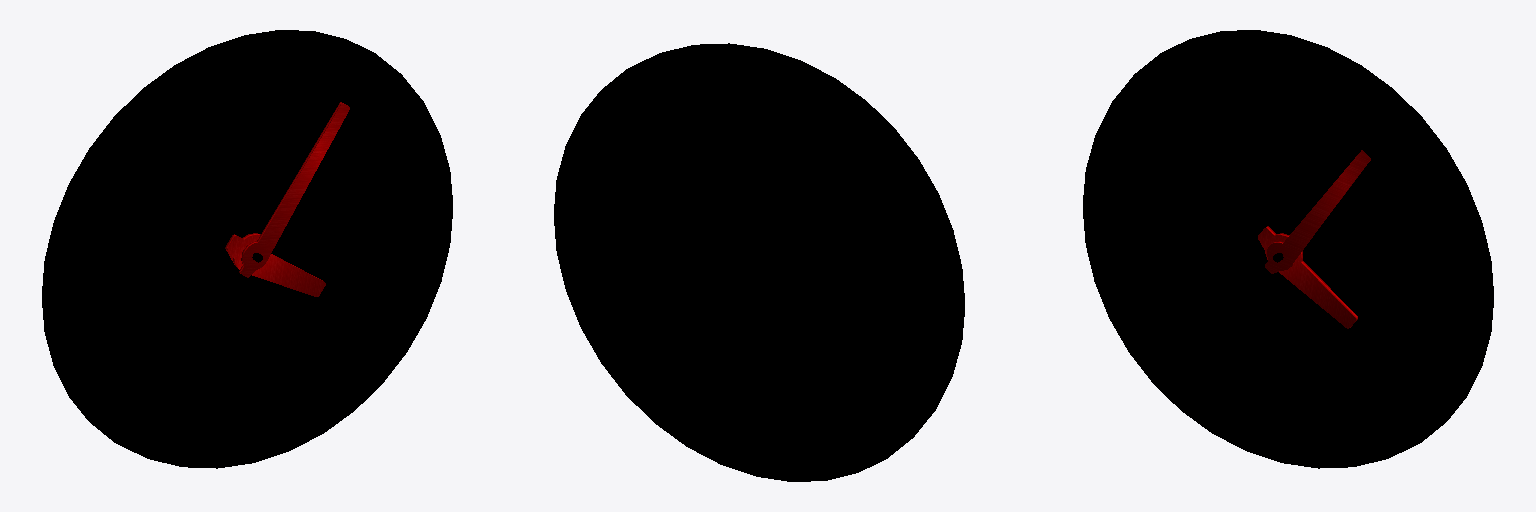
3 views of the same model, side by side, from view 1: azimuth 30°, elevation 25°; view 2: azimuth 150°, elevation 25°; view 3: azimuth 330°, elevation 25° (orthographic).
Parts seen in each view (by area): view 1: reloj_azul:Mesh; view 2: reloj_azul:Mesh; view 3: reloj_azul:Mesh.
Boxes of the visible parts, <box> form: reloj_azul:Mesh: <box>42,30,452,468</box>; reloj_azul:Mesh: <box>554,43,964,481</box>; reloj_azul:Mesh: <box>1083,30,1493,468</box>.
Bounding box in the file's own units: 3.56 × 3.56 × 0.3681.
Materials: 5 (1 with a texture image).